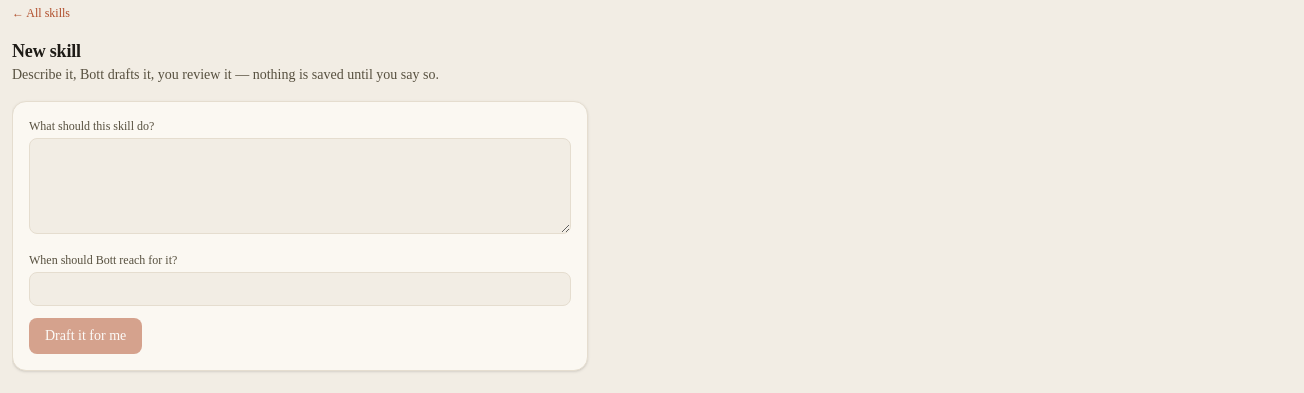
Test: SkillWizard › refining replaces the preview without navigating away
This screenshot has width=1304, height=393.
Step 1. Type "Nudge stale PRs" into the text box labelled "What should this skill do?" → (300, 186), box [29, 138, 571, 234]
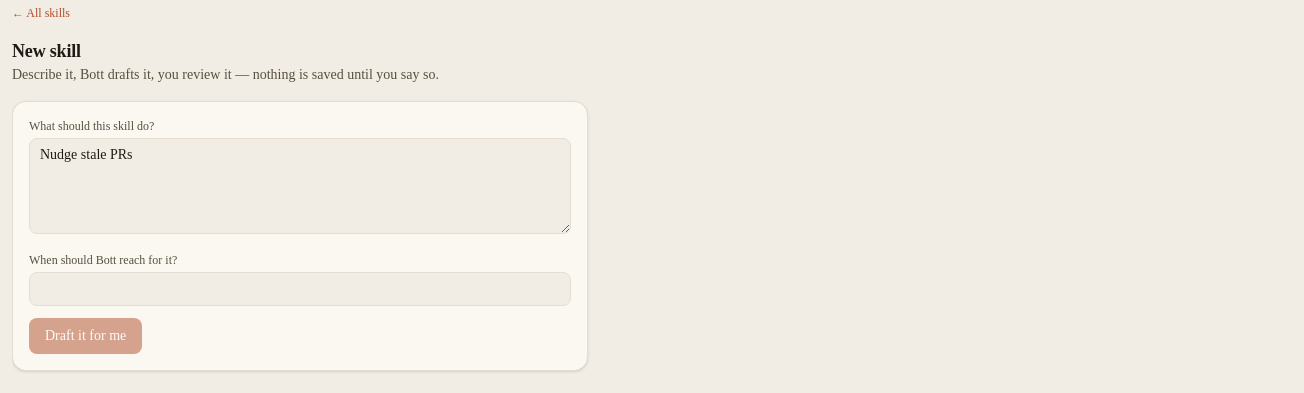
Step 2. Type "stale PRs" into the field labelled "When should Bott reach for it?" → (300, 289), box [29, 272, 571, 306]
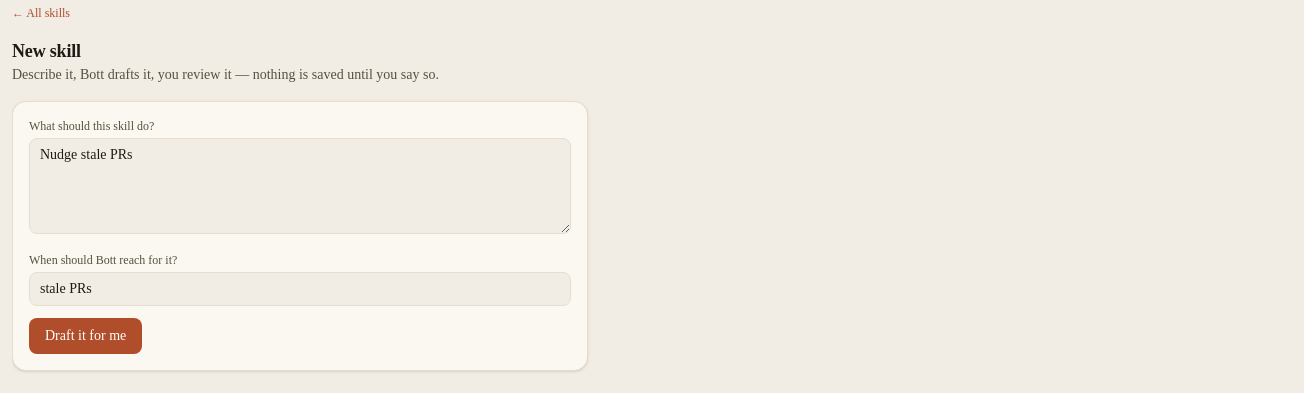
Step 3. Click the button "Draft it for me" → (86, 336), box [29, 318, 142, 354]
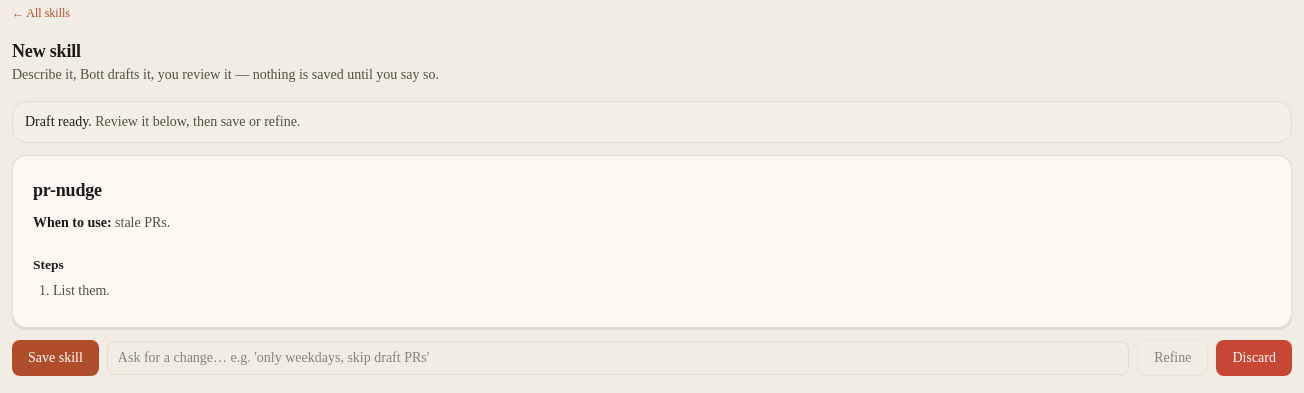
Step 4. Type "only weekdays" into the field labelled "Ask for a change" → (618, 358), box [107, 341, 1129, 375]
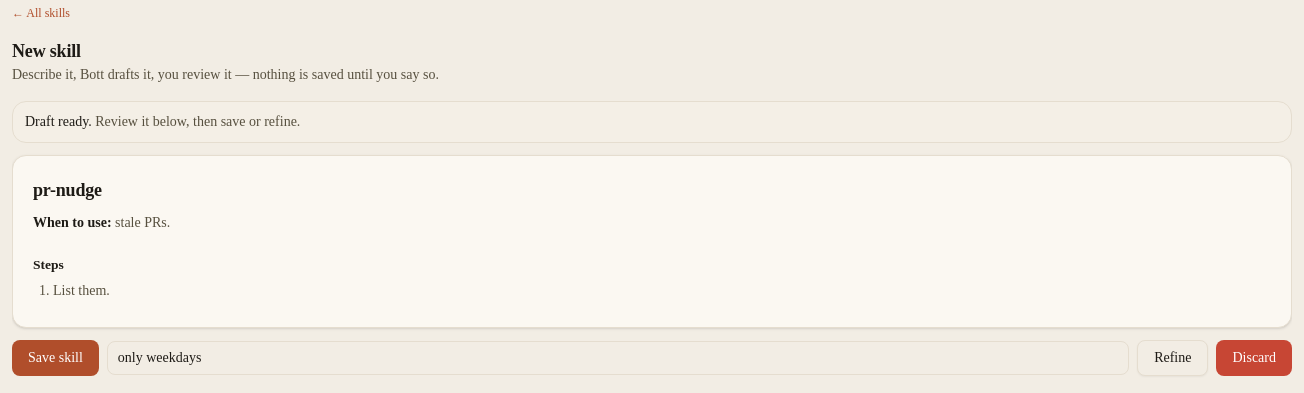
Step 5. Click the button "Refine" → (1173, 358), box [1137, 340, 1208, 376]
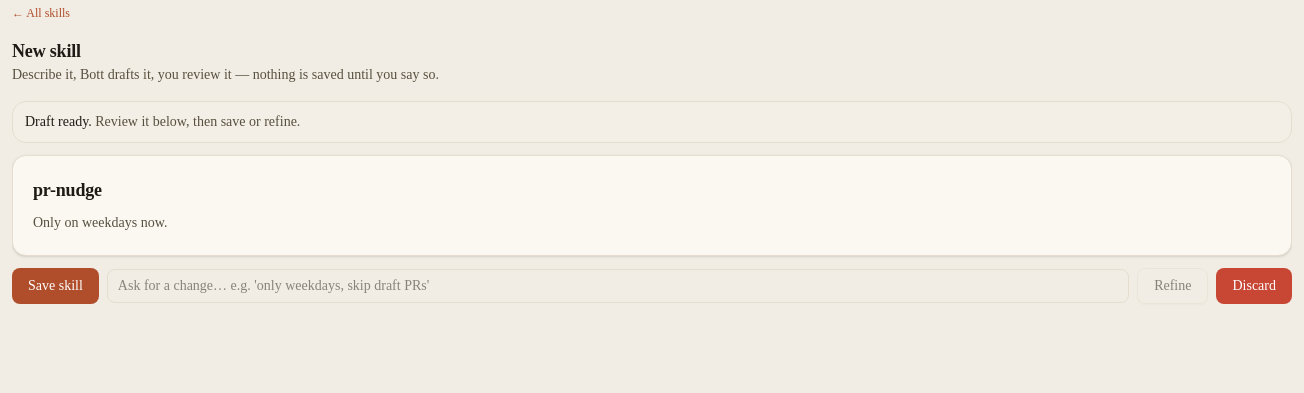
Now the text "Only on weekdays now." is shown, box [33, 215, 167, 230]
